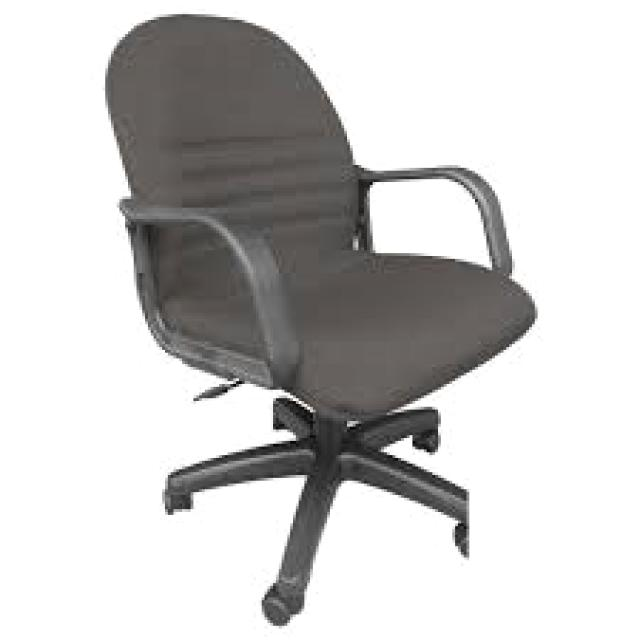Chair: (104, 13, 542, 630)
